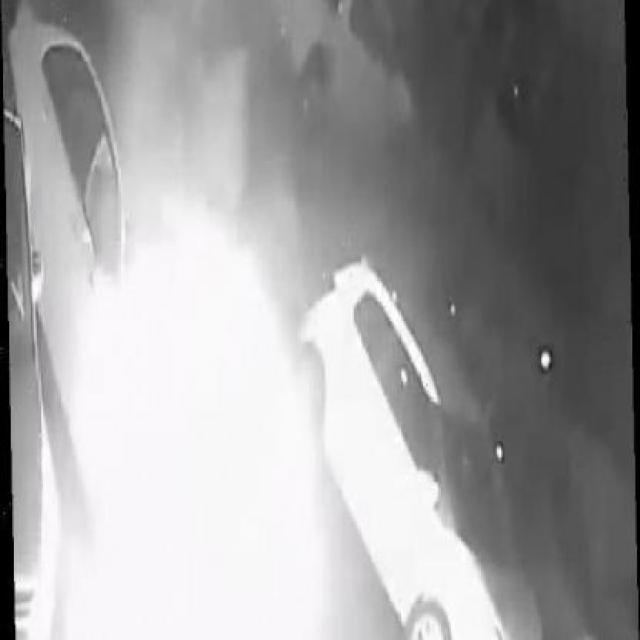Fire: (62, 217, 337, 638), (24, 411, 60, 640)
